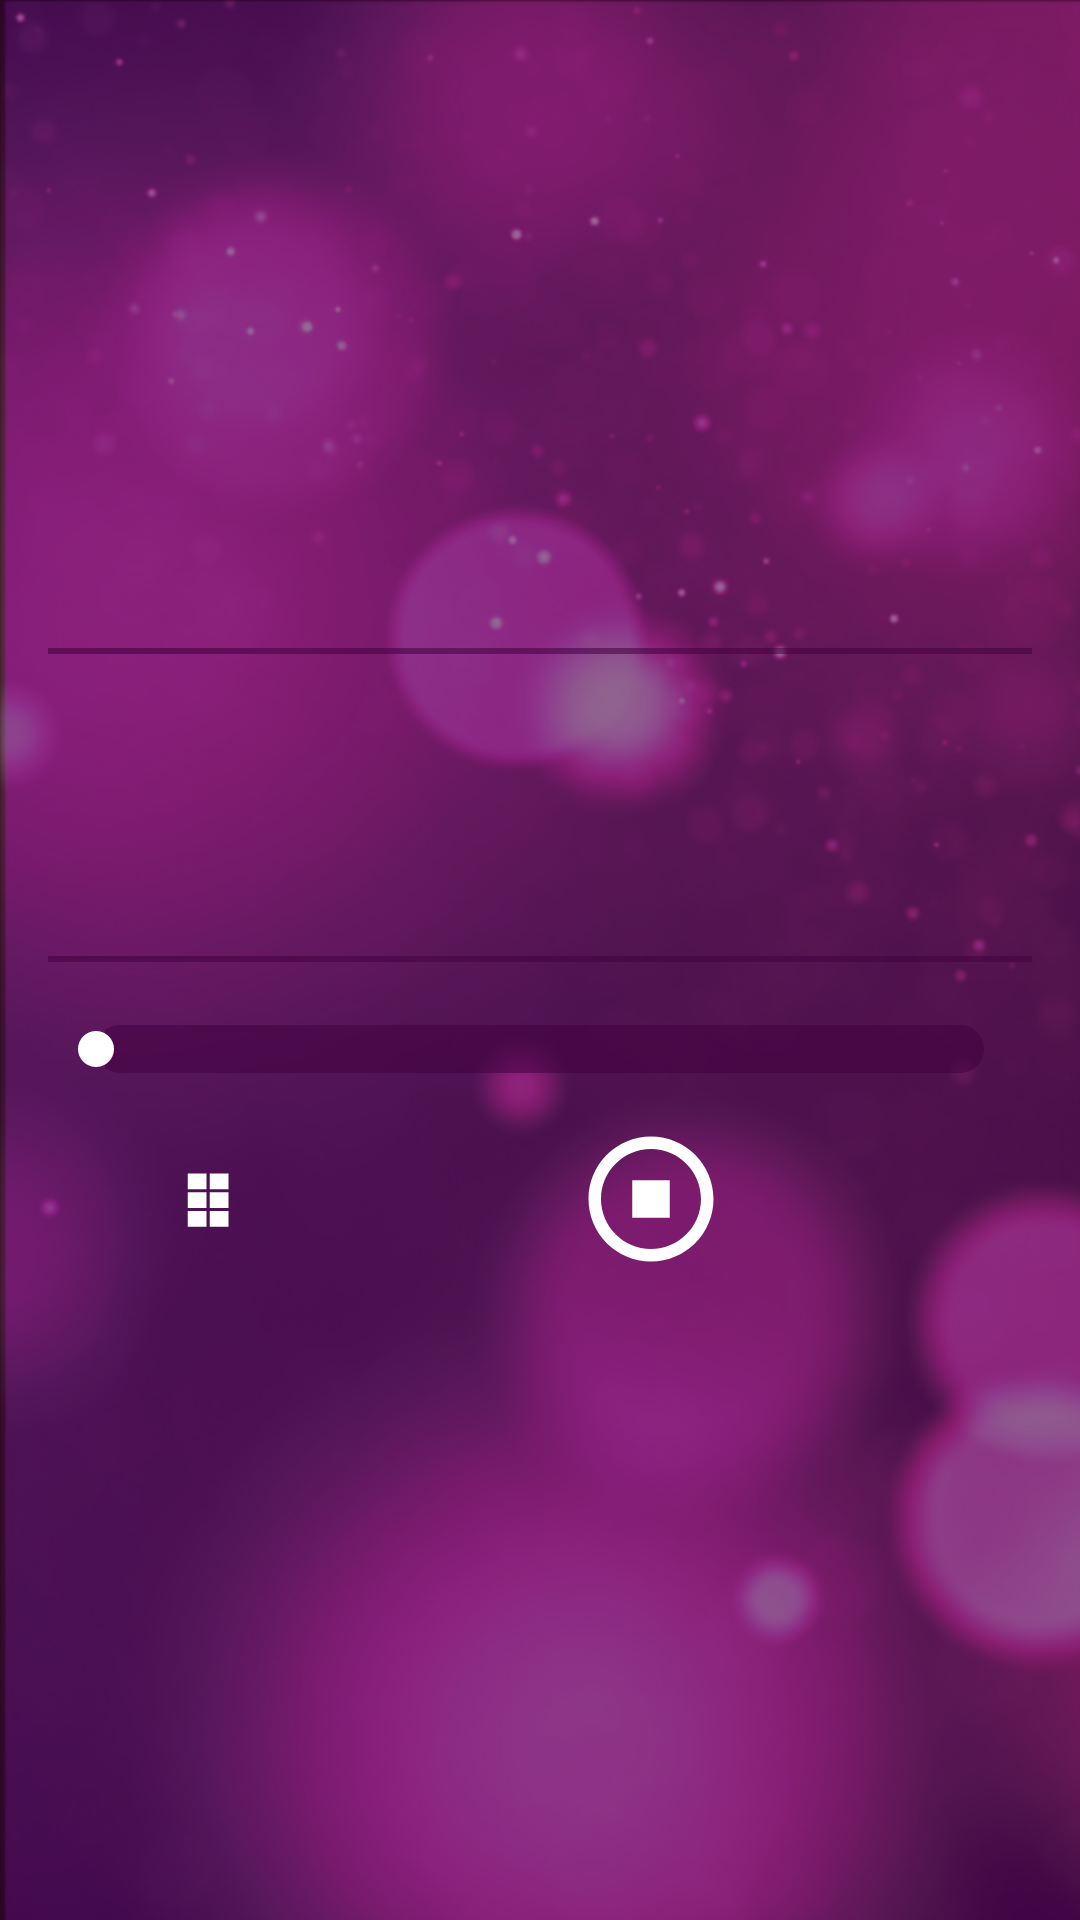

Icons on this 1080 x 1920 Android screen, each with the point to tap as (x,y):
To Genres Button: (208,1200)
